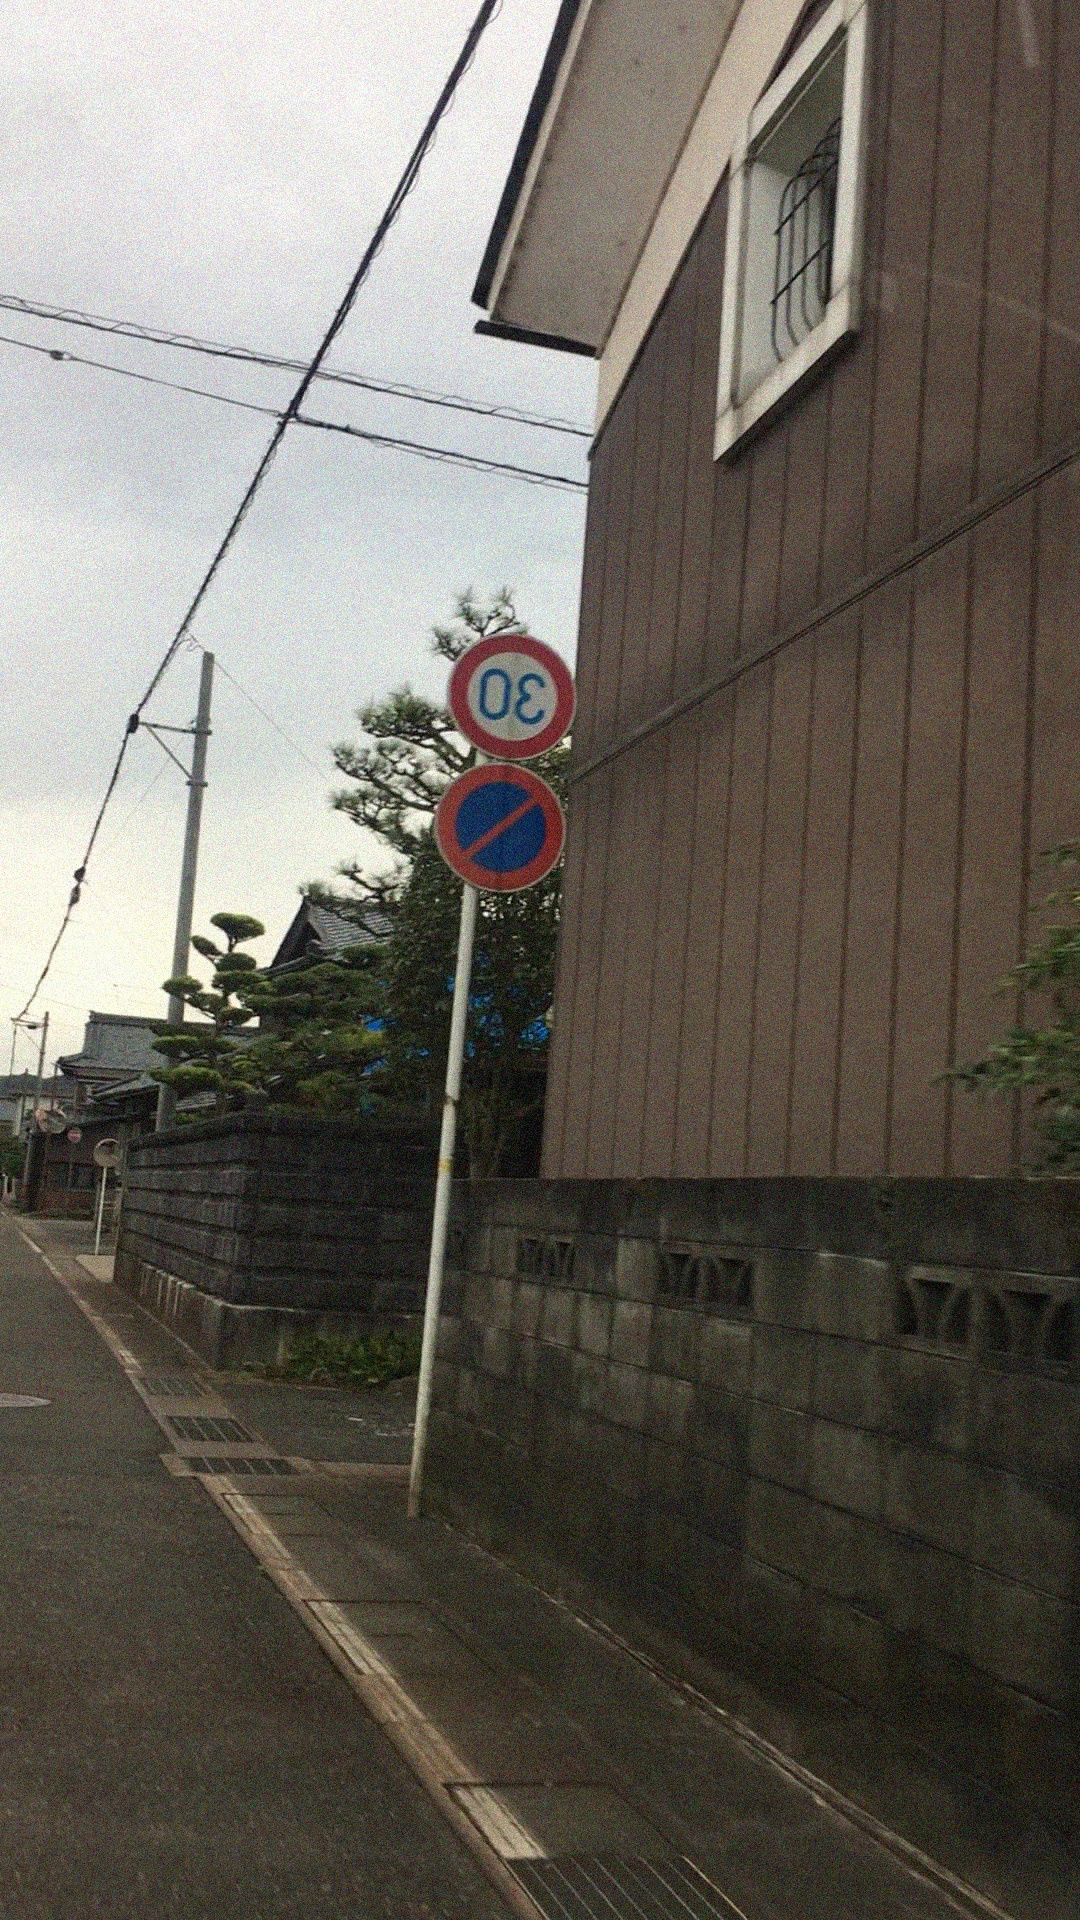Prohibition_sign: (440, 770, 574, 910)
Speed_sign: (440, 615, 582, 766)
